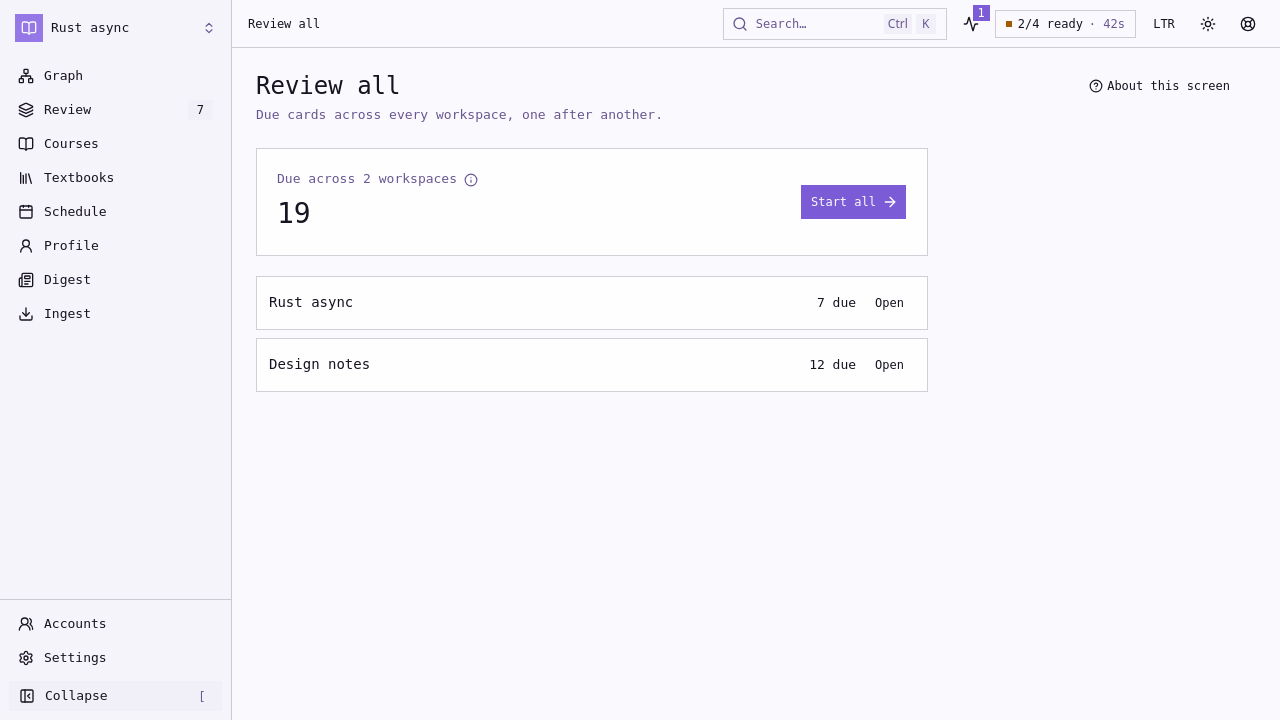
Scenario: review info › review all has its own guide
This screenshot has width=1280, height=720.
Click the button with test id "screen-guide-open" at point(1162, 86), box [1082,72,1241,100]
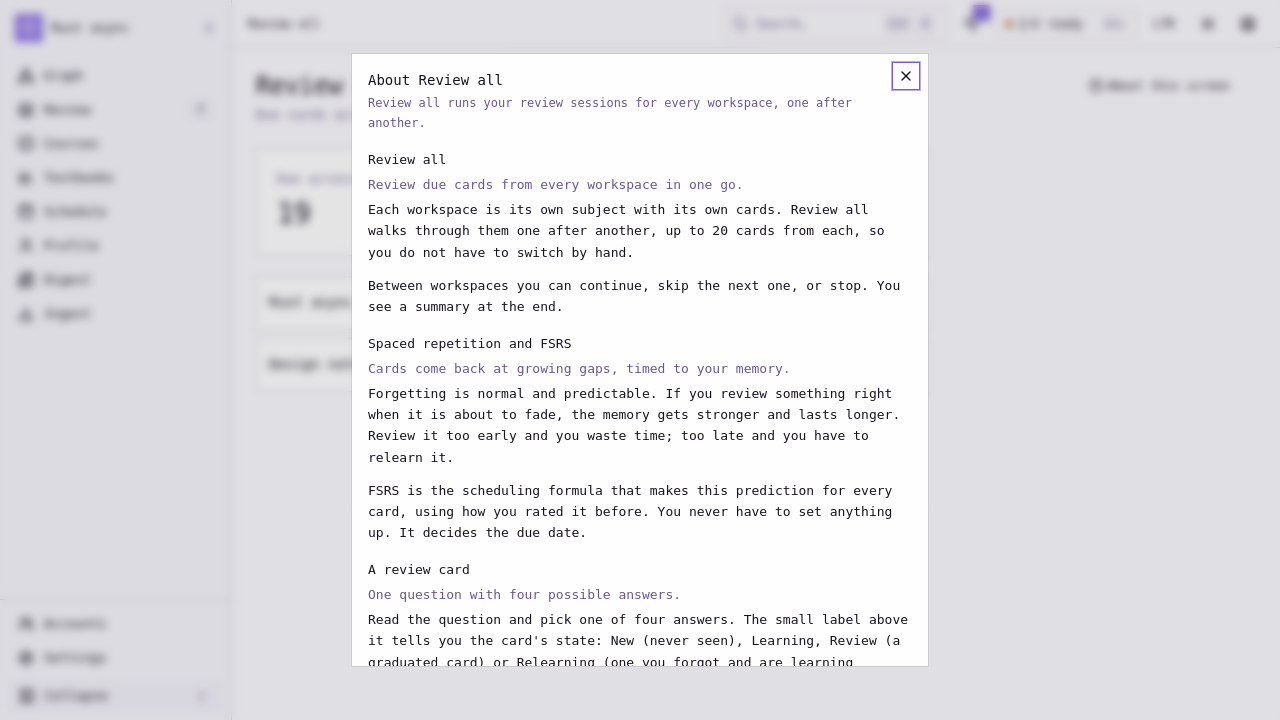
Result: the dialog with test id "screen-guide" shows "up to 20 cards from each" at [368,202,885,260]
